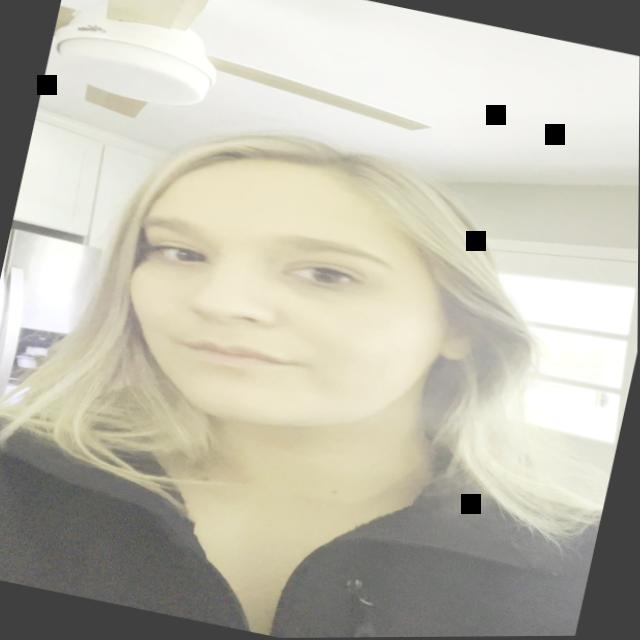NO-Mask: (78, 129, 522, 501)
